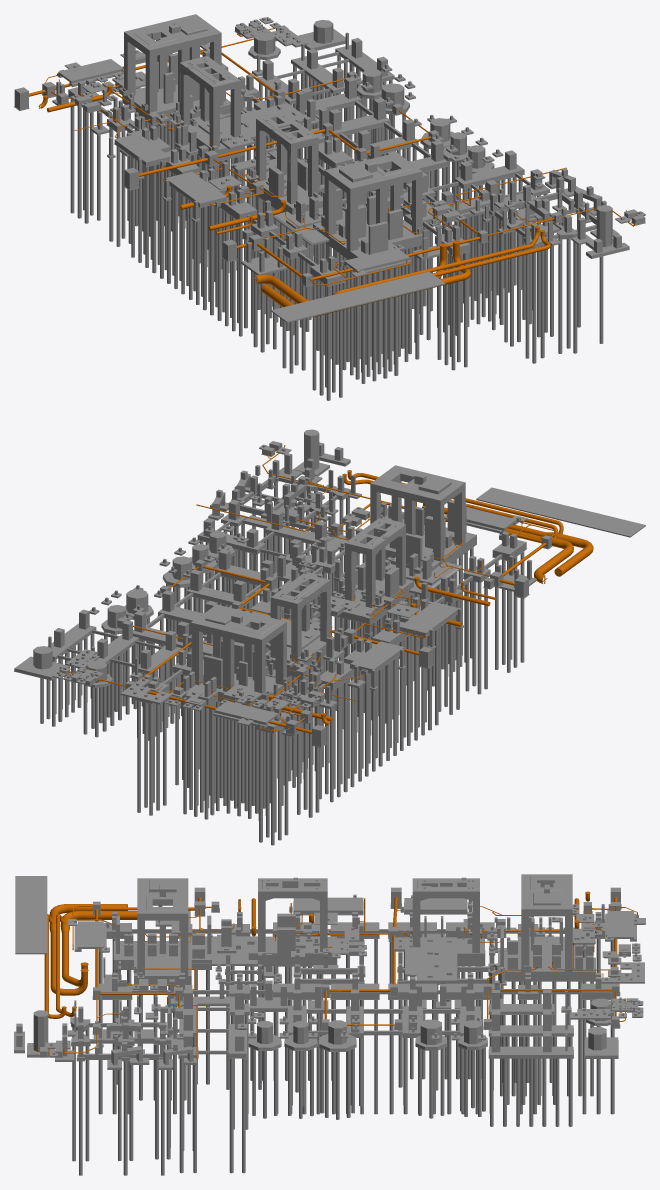
3 views of the same model, one above another, from view 1: azimuth 30°, elevation 25°; view 2: azimuth 150°, elevation 25°; view 3: azimuth 270°, elevation 25° (orthographic). The views are drawn at different scales.
Size of the model in its own units: 67.72 by 33.74 by 98.63.
